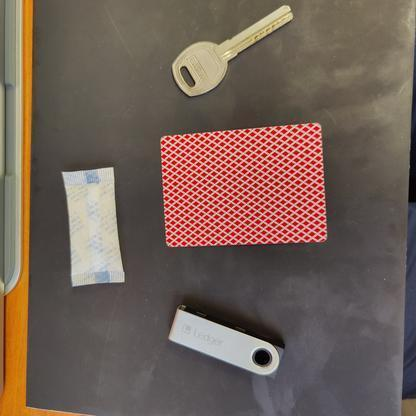card: (151, 117, 338, 250)
